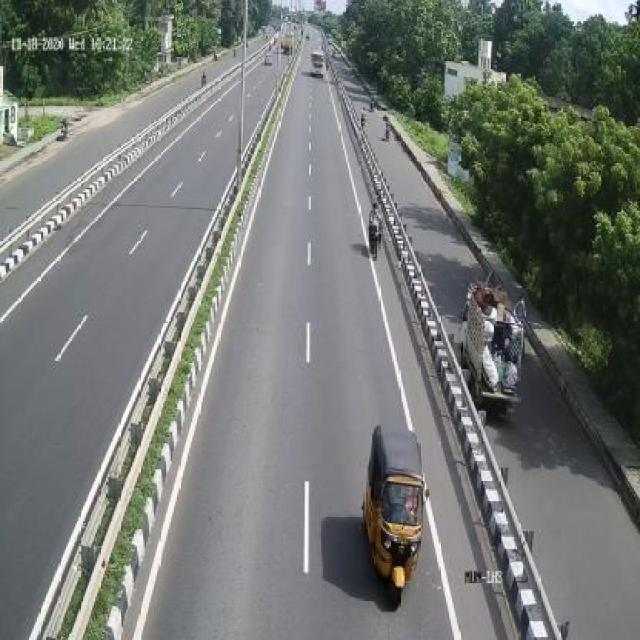car: (460, 274, 526, 403)
